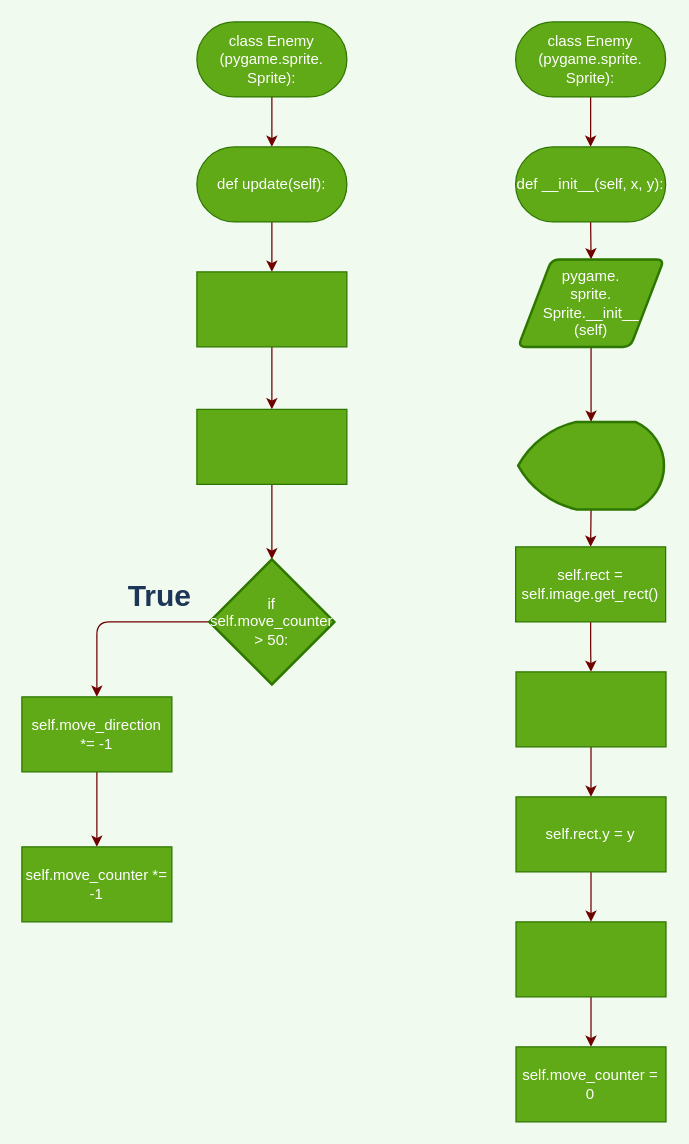
Some shapes in this 689 by 1144 pixel diagram are drawn without their labels. The shapes that lost their labels are listed below. From the top down, each one's centre as x and y in pixels, then its label:
At (x=271, y=309): "self.rect.x += self.move_direction".
At (x=271, y=446): "self.move_counter += 1".
At (x=590, y=465): "self.image = pygame.image.load ('images/ghost.png')".
At (x=590, y=709): "self.rect.x = x".
At (x=590, y=959): "self.move_direction = 1".
